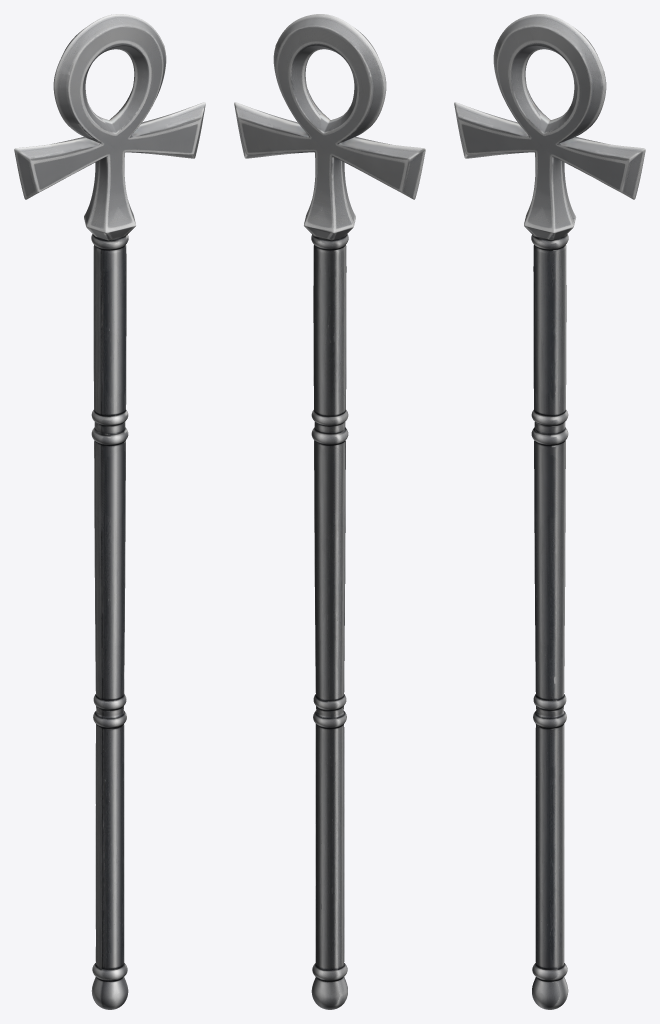
File: Ankh.fbx
The picture shows the model from 3 angles, left to right: view 1: azimuth 30°, elevation 25°; view 2: azimuth 150°, elevation 25°; view 3: azimuth 330°, elevation 25°; orthographic projection.
Visible parts, largest first — view 1: Mesh_0; view 2: Mesh_0; view 3: Mesh_0.
Part boxes in pixels (x1,y1,x2,y2): Mesh_0: (14,14,205,1009); Mesh_0: (234,14,425,1009); Mesh_0: (454,14,645,1009).
Bounding box in the file's own units: 34.28 × 170 × 6.92.
Materials: 1 (1 with a texture image).
